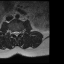CCS_normal: (15, 29, 17, 39)
LFS_normal: (19, 29, 22, 35)
LLS_normal: (17, 29, 19, 36)
RFS_normal: (11, 29, 13, 35)
RLS_normal: (13, 29, 15, 36)
